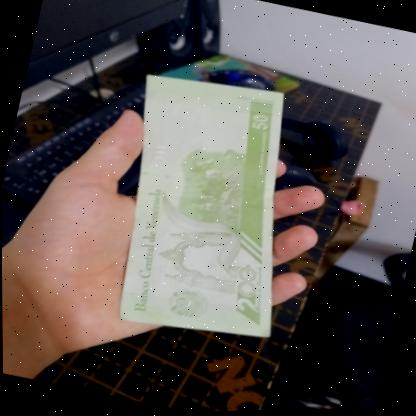fifty-back-vef: (91, 62, 325, 354)
